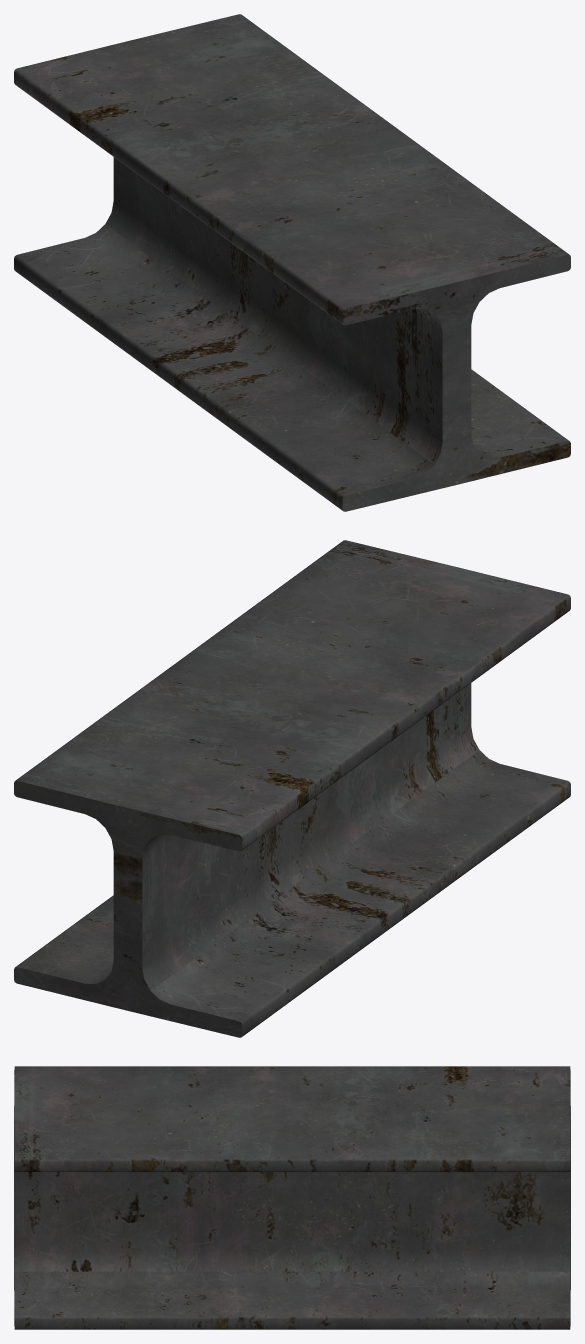
The model's file is steel_beam_a.glb.
The picture shows the model from 3 angles, top to bottom: view 1: azimuth 30°, elevation 25°; view 2: azimuth 150°, elevation 25°; view 3: azimuth 270°, elevation 25°; orthographic projection. The views are drawn at different scales.
Visible parts, largest first — view 1: g; view 2: g; view 3: g.
Boxes of the visible parts, bbox=[...] form: g: bbox=[14, 14, 570, 511]; g: bbox=[14, 540, 570, 1037]; g: bbox=[14, 1066, 570, 1329].
Bounding box in the file's own units: 0.4 × 0.3395 × 0.9992.
1 material, 1 textured.
